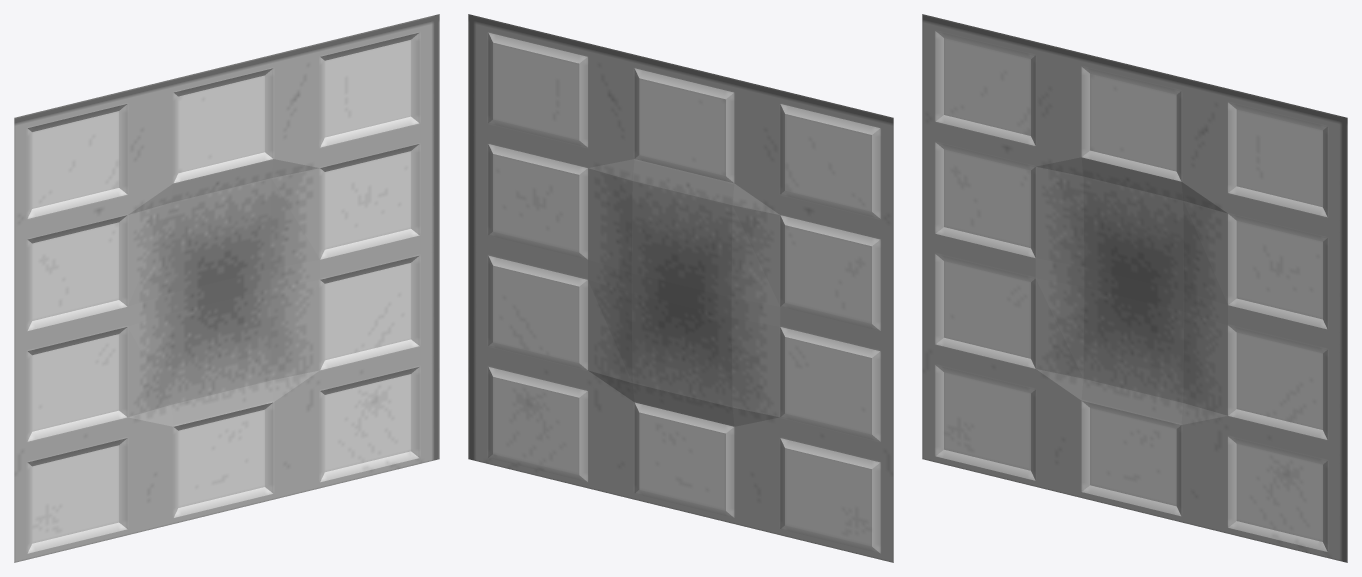
Rendered from flight2_2.fbx.
3 renders of one model, left to right at view 1: azimuth 30°, elevation 25°; view 2: azimuth 150°, elevation 25°; view 3: azimuth 330°, elevation 25°, orthographic.
Visible parts, largest first — view 1: flight2_2_mesh; view 2: flight2_2_mesh; view 3: flight2_2_mesh.
Part boxes in pixels (left/top/right/bottom): flight2_2_mesh: left=14, top=14, right=439, bottom=562; flight2_2_mesh: left=468, top=14, right=893, bottom=562; flight2_2_mesh: left=922, top=14, right=1347, bottom=562.
Size of the model in its own units: 256 by 256 by 3.
